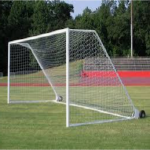goals: (7, 27, 138, 127)
